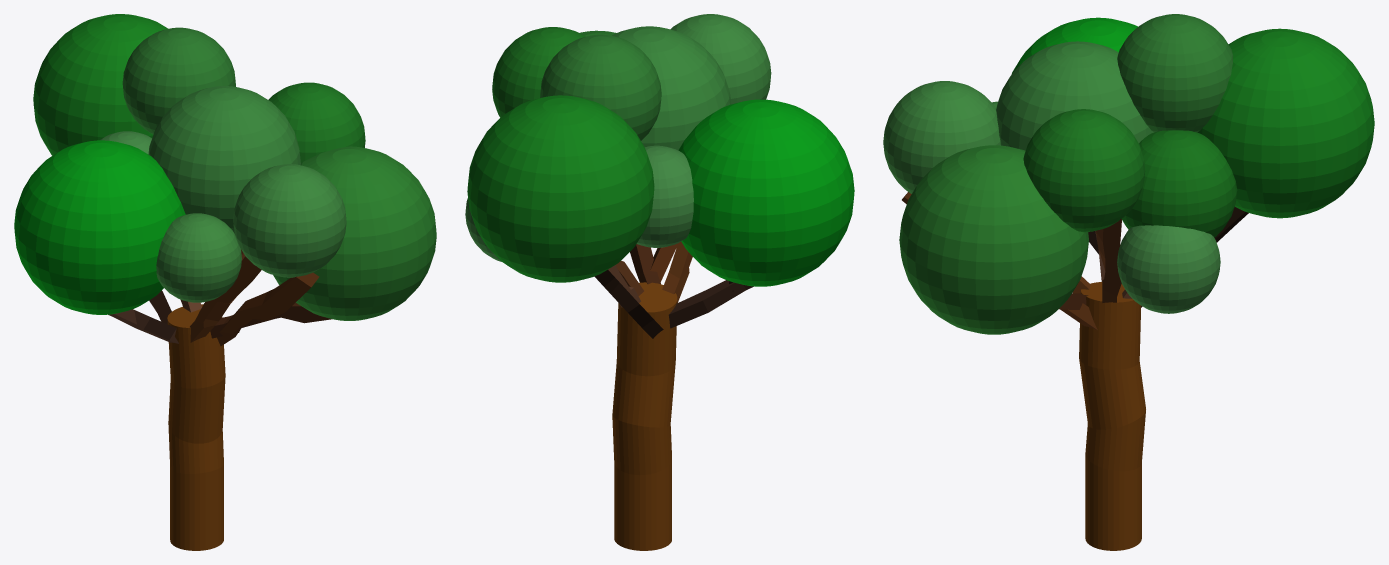
Rendered from ağaç.gltf.
3 views of the same model, side by side, from view 1: azimuth 30°, elevation 25°; view 2: azimuth 150°, elevation 25°; view 3: azimuth 270°, elevation 25° (orthographic). The views are drawn at different scales.
Parts seen in each view (by area): view 1: Sphere.004, Sphere, Sphere.005, Cylinder, Sphere.002, Sphere.007, Sphere.008, Sphere.010, Sphere.003, Cube.005, Cube.006, Cube.007 (+2 smaller); view 2: Sphere.002, Sphere.004, Cylinder, Sphere.008, Sphere.005, Sphere.007, Sphere.003, Sphere.006, Cube.007, Cube.003, Cube.006, Cube.001 (+2 smaller); view 3: Sphere, Sphere.002, Cylinder, Sphere.003, Sphere.008, Sphere.005, Sphere.001, Sphere.007, Sphere.009, Sphere.004, Cube.004.
Part boxes in pixels (x1=…): Sphere.004: x1=14, y1=140, x2=185, y2=314; Sphere: x1=273, y1=146, x2=436, y2=320; Sphere.005: x1=148, y1=86, x2=300, y2=233; Cylinder: x1=167, y1=304, x2=225, y2=550; Sphere.002: x1=33, y1=14, x2=168, y2=155; Sphere.007: x1=233, y1=164, x2=346, y2=277; Sphere.008: x1=122, y1=27, x2=235, y2=134; Sphere.010: x1=156, y1=213, x2=241, y2=302; Sphere.003: x1=268, y1=82, x2=365, y2=162; Cube.005: x1=217, y1=272, x2=319, y2=346; Cube.006: x1=190, y1=256, x2=261, y2=342; Cube.007: x1=108, y1=309, x2=178, y2=343; Sphere.002: x1=467, y1=95, x2=654, y2=282; Sphere.004: x1=678, y1=99, x2=854, y2=286; Cylinder: x1=612, y1=282, x2=677, y2=550; Sphere.008: x1=540, y1=34, x2=661, y2=140; Sphere.005: x1=612, y1=26, x2=731, y2=150; Sphere.007: x1=670, y1=14, x2=771, y2=104; Sphere.003: x1=492, y1=27, x2=585, y2=117; Sphere.006: x1=636, y1=145, x2=693, y2=247; Cube.007: x1=668, y1=280, x2=753, y2=328; Cube.003: x1=594, y1=270, x2=663, y2=338; Cube.006: x1=662, y1=241, x2=692, y2=302; Cube.001: x1=630, y1=244, x2=660, y2=284; Sphere: x1=899, y1=145, x2=1088, y2=334; Sphere.002: x1=1197, y1=28, x2=1374, y2=218; Cylinder: x1=1079, y1=282, x2=1145, y2=550; Sphere.003: x1=1023, y1=109, x2=1145, y2=232; Sphere.008: x1=1117, y1=14, x2=1232, y2=132; Sphere.005: x1=996, y1=41, x2=1153, y2=150; Sphere.001: x1=1122, y1=130, x2=1237, y2=237; Sphere.007: x1=883, y1=81, x2=1000, y2=193; Sphere.009: x1=1117, y1=225, x2=1220, y2=313; Sphere.004: x1=1012, y1=17, x2=1137, y2=73; Cube.004: x1=1095, y1=219, x2=1121, y2=302.
Bounding box in the file's own units: 10.06 × 13.21 × 11.22.
